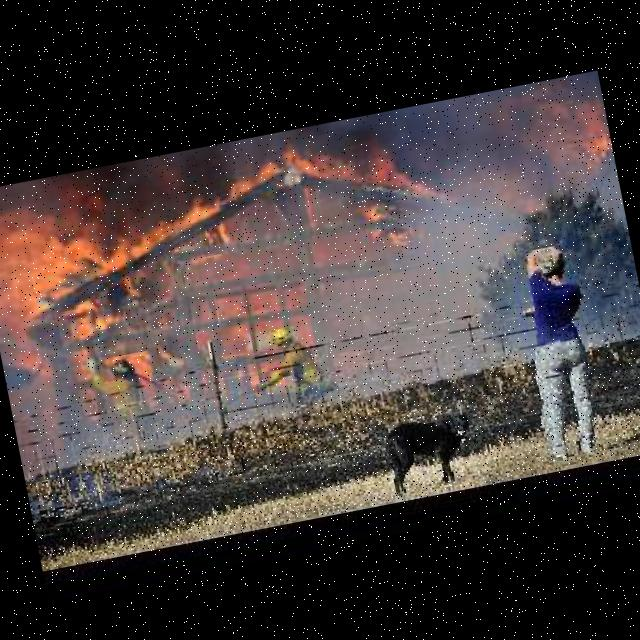fire: (0, 71, 640, 484)
